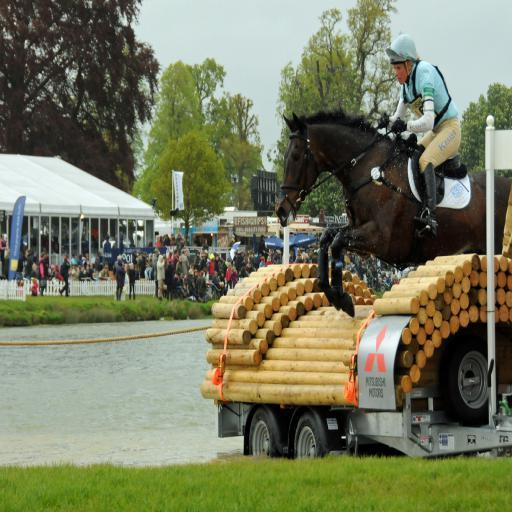horse: (273, 102, 512, 320)
